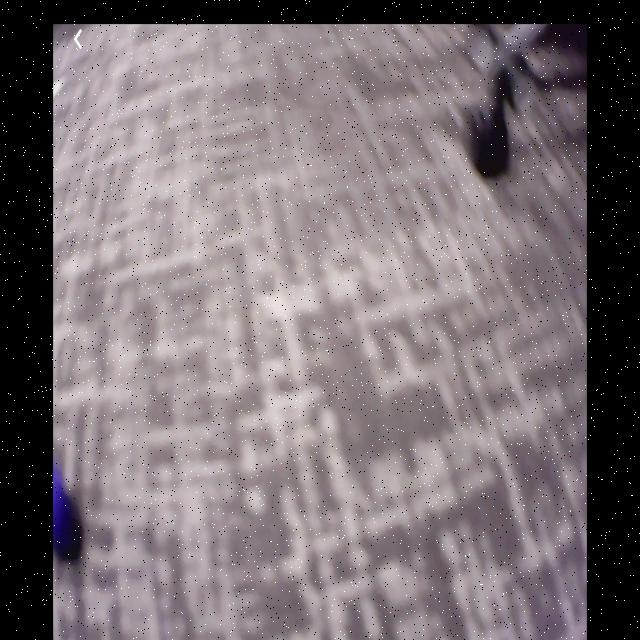ball: (55, 476, 76, 564)
